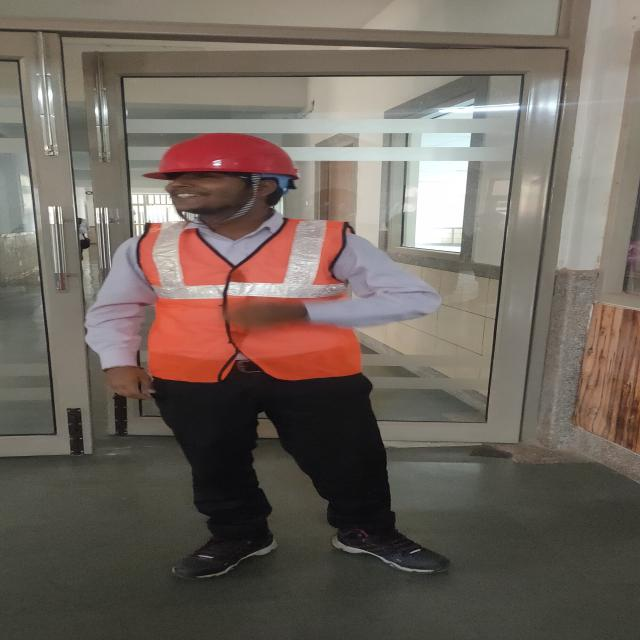safe: (87, 133, 440, 569)
